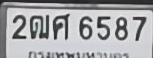2: (11, 14, 25, 38)
5: (96, 14, 110, 40)
6: (78, 15, 92, 39)
7: (132, 15, 146, 40)
8: (114, 16, 127, 40)
A18: (29, 14, 49, 38)
A38: (52, 12, 69, 40)
